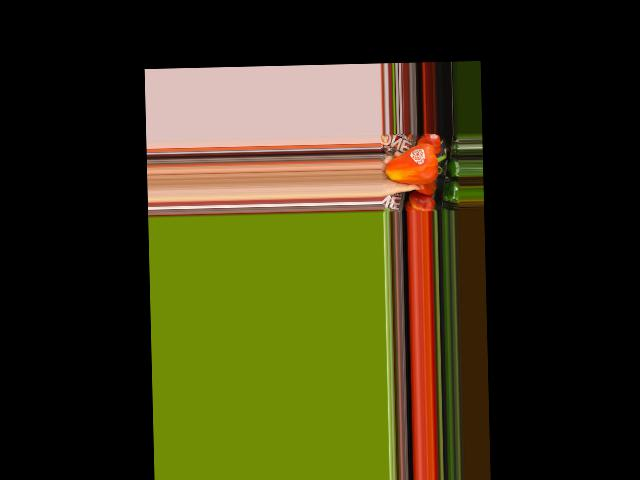bell_pepper: (385, 141, 448, 189)
